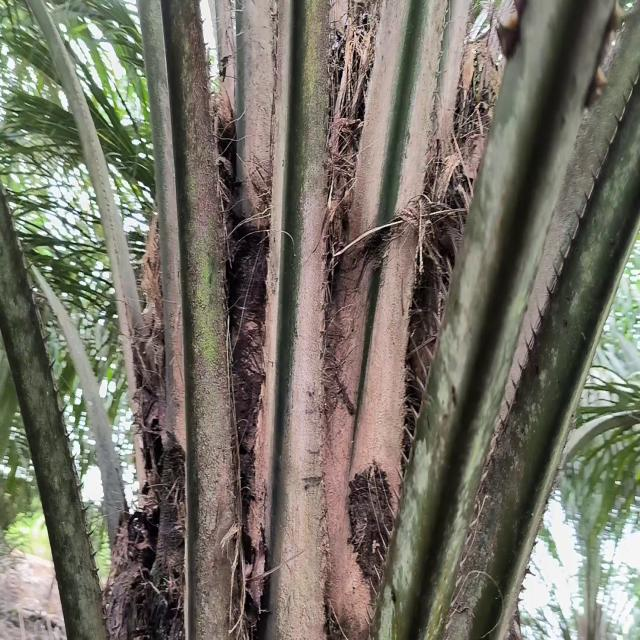palm-oil: (327, 20, 370, 216)
